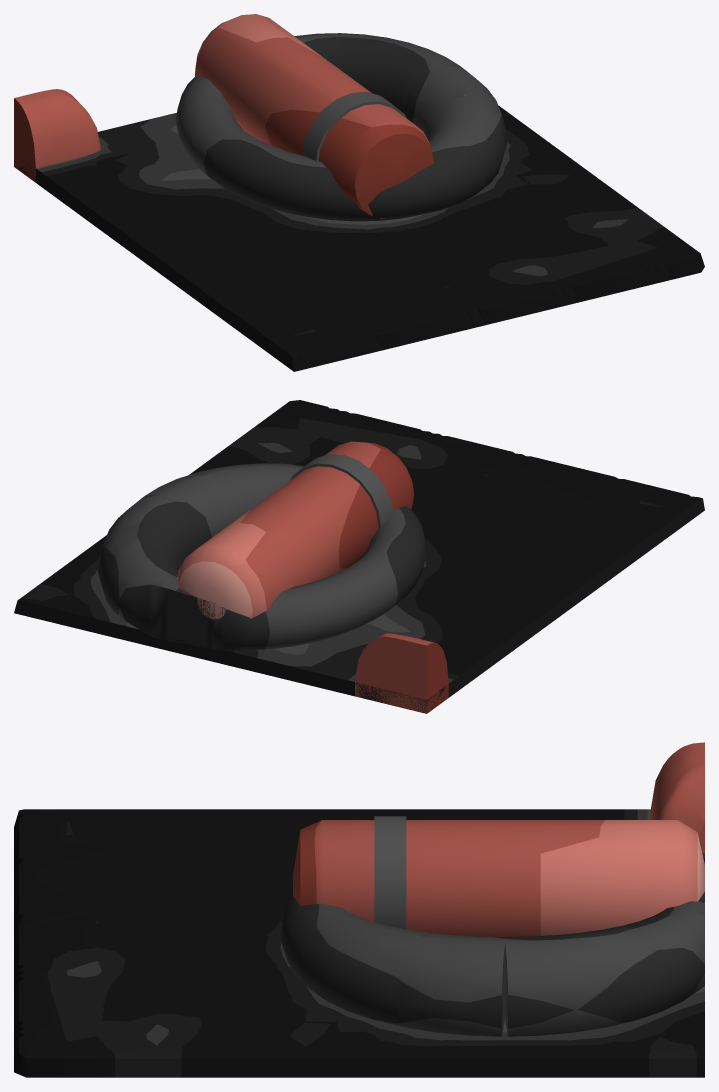
File: brick_bulb_br.glb
3 views of the same model, one above another, from view 1: azimuth 30°, elevation 25°; view 2: azimuth 150°, elevation 25°; view 3: azimuth 270°, elevation 25° (orthographic). The views are drawn at different scales.
Parts seen in each view (by area): view 1: wall, ring_r, piston_r, stalk, piston_r_band; view 2: wall, ring_r, piston_r, stalk, piston_r_band; view 3: wall, ring_r, piston_r, stalk, piston_r_band.
Part boxes in pixels (left/top/right/bottom): wall: left=15, top=105, right=704, bottom=371; ring_r: left=175, top=33, right=507, bottom=221; piston_r: left=195, top=14, right=433, bottom=218; stalk: left=14, top=89, right=100, bottom=182; piston_r_band: left=302, top=91, right=406, bottom=161; wall: left=14, top=400, right=704, bottom=712; ring_r: left=98, top=463, right=427, bottom=650; piston_r: left=177, top=441, right=414, bottom=619; stalk: left=355, top=633, right=448, bottom=713; piston_r_band: left=290, top=454, right=393, bottom=528; wall: left=14, top=809, right=704, bottom=1077; ring_r: left=280, top=892, right=704, bottom=1036; piston_r: left=293, top=820, right=704, bottom=936; stalk: left=650, top=742, right=704, bottom=852; piston_r_band: left=374, top=816, right=406, bottom=929.
Size of the model in its own units: 24 by 6.05 by 28.
